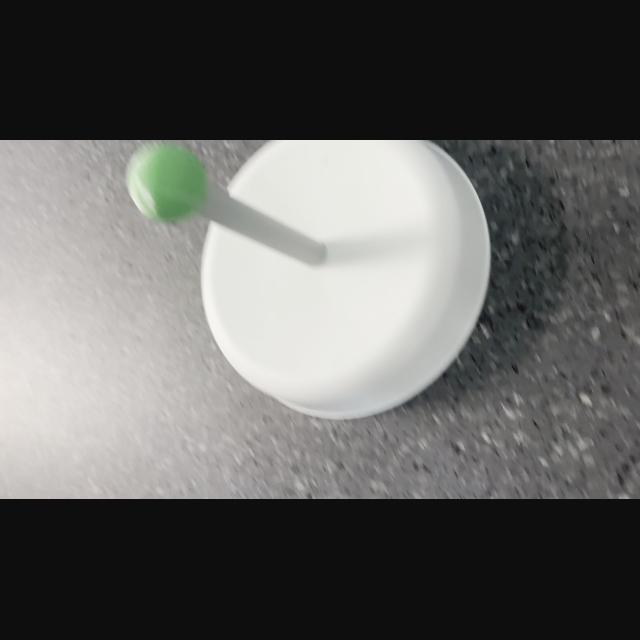objects: (115, 140, 212, 228)
